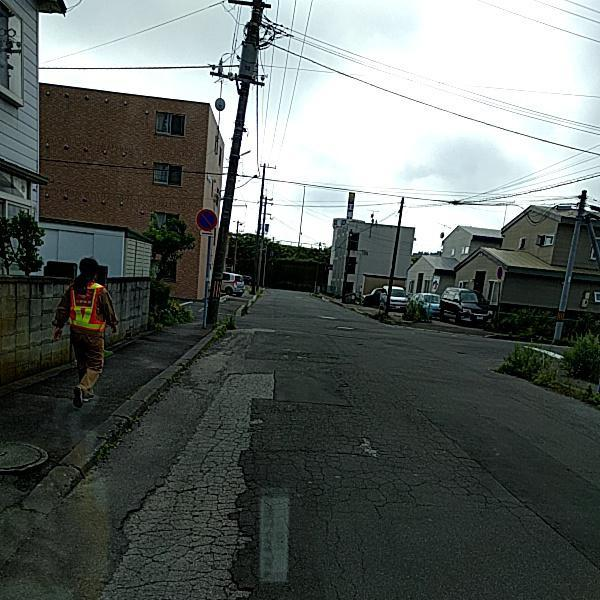D20: (112, 367, 507, 599)
D40: (353, 430, 385, 461), (243, 413, 264, 425)
D50: (0, 439, 47, 471)
